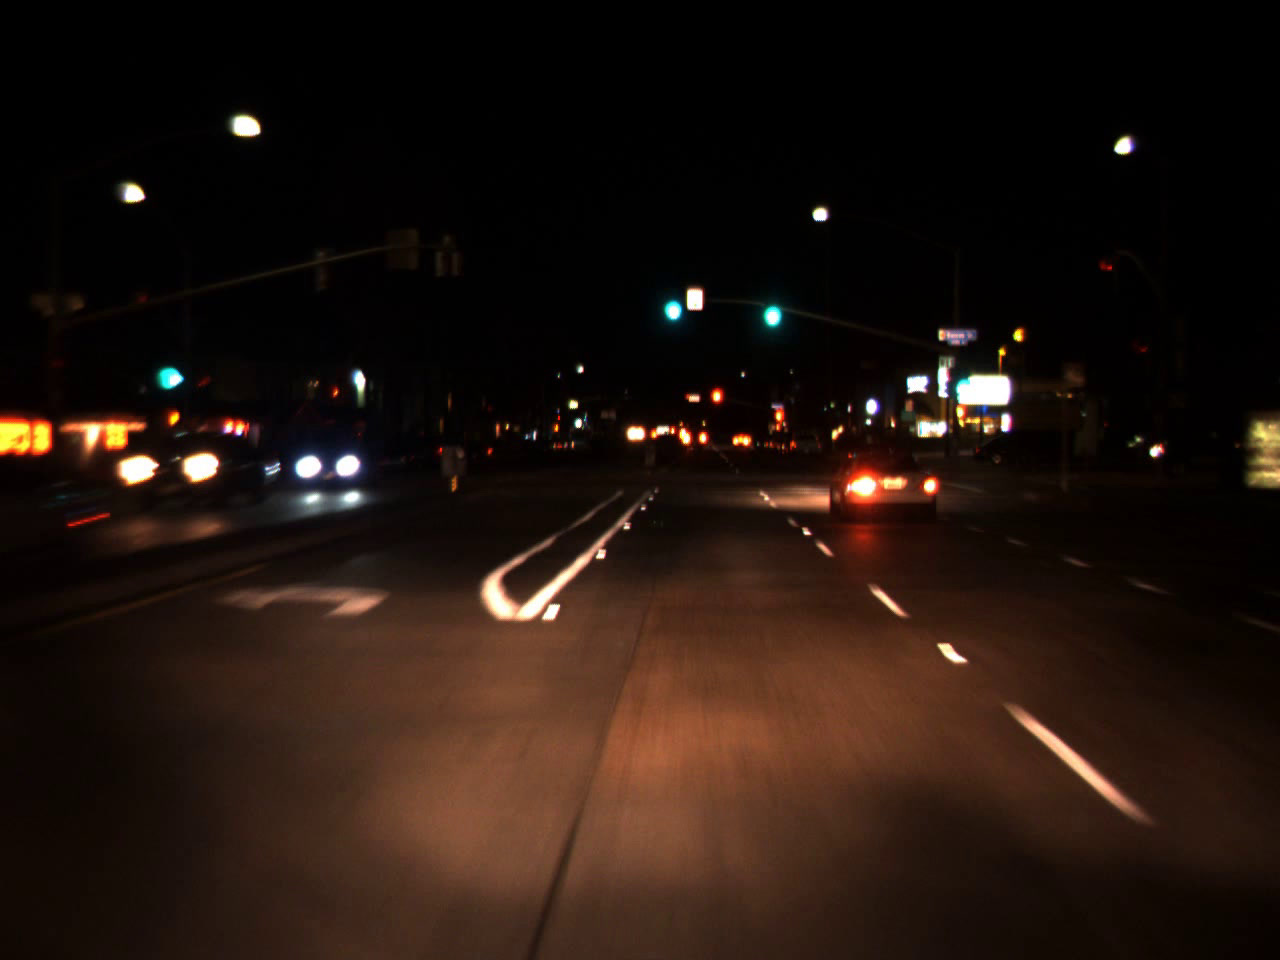go: (151, 338, 183, 398), (757, 278, 785, 335), (658, 276, 685, 327), (948, 356, 975, 401)
stop: (709, 385, 724, 420), (771, 408, 786, 440)
